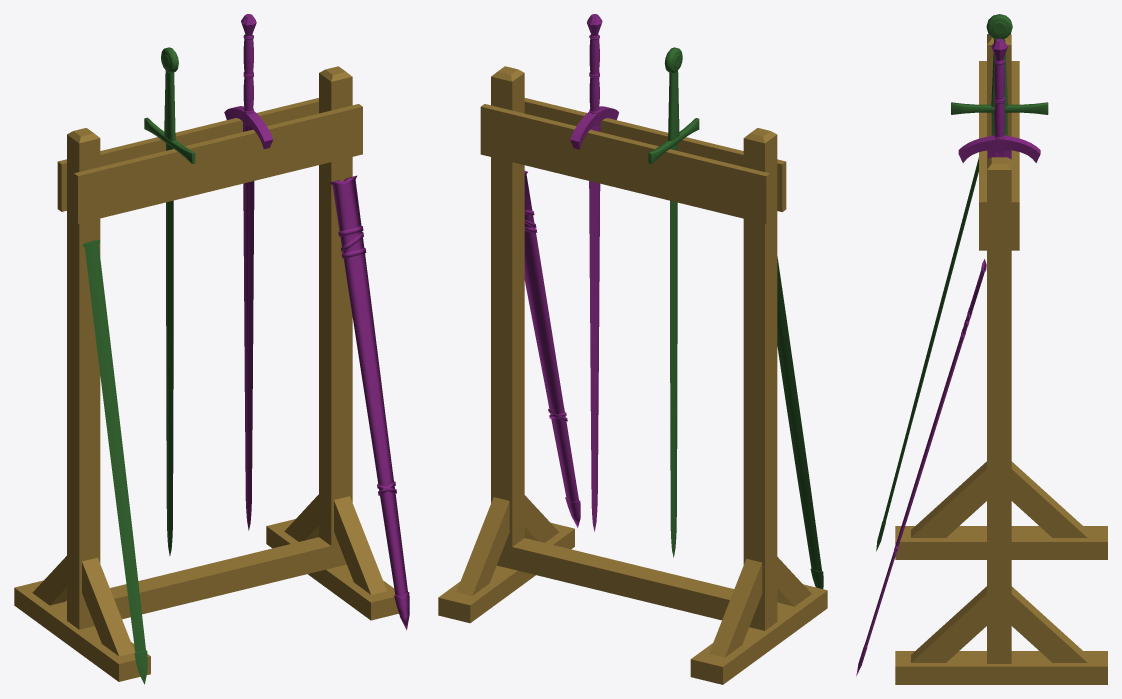
File: exp.fbx
The picture shows the model from 3 angles, left to right: view 1: azimuth 30°, elevation 25°; view 2: azimuth 150°, elevation 25°; view 3: azimuth 270°, elevation 25°; orthographic projection.
Visible parts, largest first — view 1: Box010, Plane008, Plane012, Plane006, Plane011, Plane007, Box005, Cylinder011; view 2: Box010, Plane008, Plane012, Plane006, Plane011, Plane007, Box005, Cylinder011; view 3: Box010, Plane008, Plane012, Plane007, Box004, Cylinder011, Cylinder017.
Boxes of the visible parts, box(x1,y1,x2,y2) form: Box010: box(14, 66, 398, 681); Plane008: box(330, 175, 409, 630); Plane012: box(82, 240, 147, 684); Plane006: box(243, 122, 254, 530); Plane011: box(166, 143, 173, 556); Plane007: box(224, 106, 273, 149); Box005: box(164, 70, 175, 140); Cylinder011: box(243, 39, 253, 111); Box010: box(438, 66, 827, 684); Plane008: box(524, 170, 580, 527); Plane012: box(777, 256, 823, 588); Plane006: box(589, 122, 600, 531); Plane011: box(670, 143, 677, 557); Plane007: box(570, 106, 618, 149); Box005: box(668, 70, 679, 141); Cylinder011: box(589, 39, 599, 111); Box010: box(895, 34, 1107, 684); Plane008: box(856, 259, 986, 675); Plane012: box(876, 157, 978, 551); Plane007: box(958, 135, 1040, 162); Box004: box(951, 102, 1048, 114); Cylinder011: box(994, 64, 1004, 137); Cylinder017: box(986, 14, 1012, 38).
Bounding box in the file's own units: 751 × 1471 × 565.
